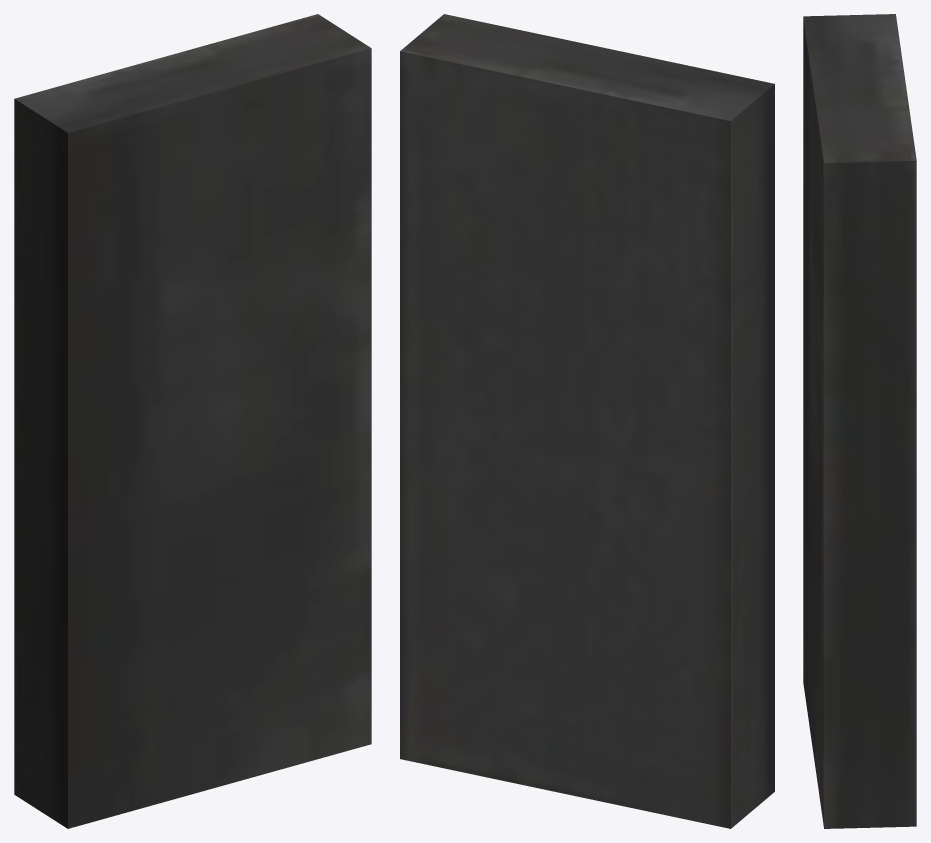
File: seat__seat_rear_brace.glb
The picture shows the model from 3 angles, left to right: view 1: azimuth 30°, elevation 25°; view 2: azimuth 150°, elevation 25°; view 3: azimuth 270°, elevation 25°; orthographic projection. The views are drawn at different scales.
Visible parts, largest first — view 1: world; view 2: world; view 3: world.
Part boxes in pixels (bbox=[...]): world: bbox=[14, 14, 371, 828]; world: bbox=[400, 14, 774, 828]; world: bbox=[803, 14, 916, 828].
Size of the model in its own units: 0.0913 by 0.19 by 0.0294.
1 material, 1 textured.
